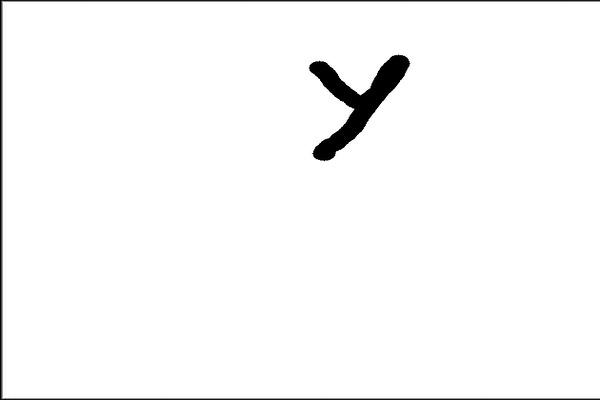Y: (293, 43, 419, 165)
